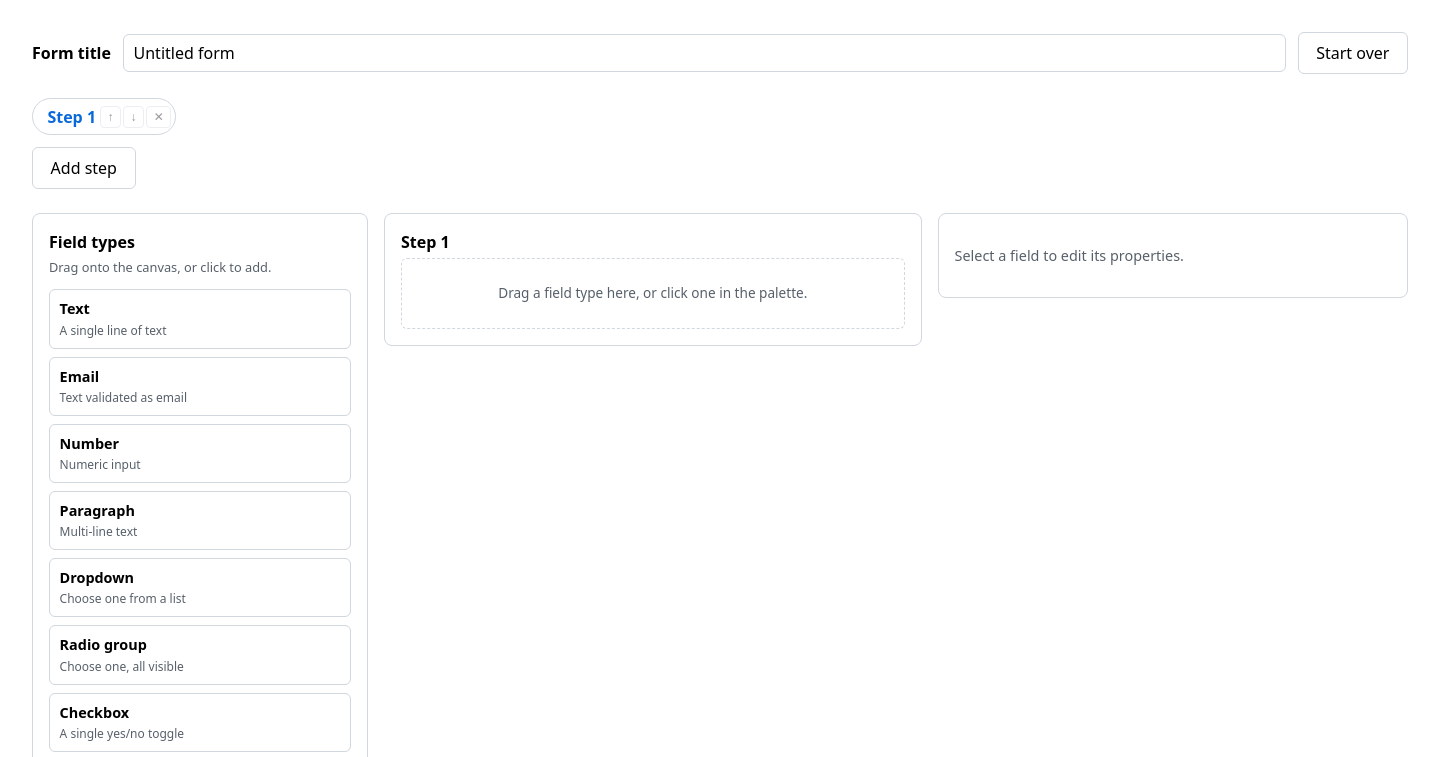
Test: BuilderPage › rejects renaming a field to a name already used elsewhere
Click the button "Text A single line of text": (75, 309) [49, 289, 351, 348]
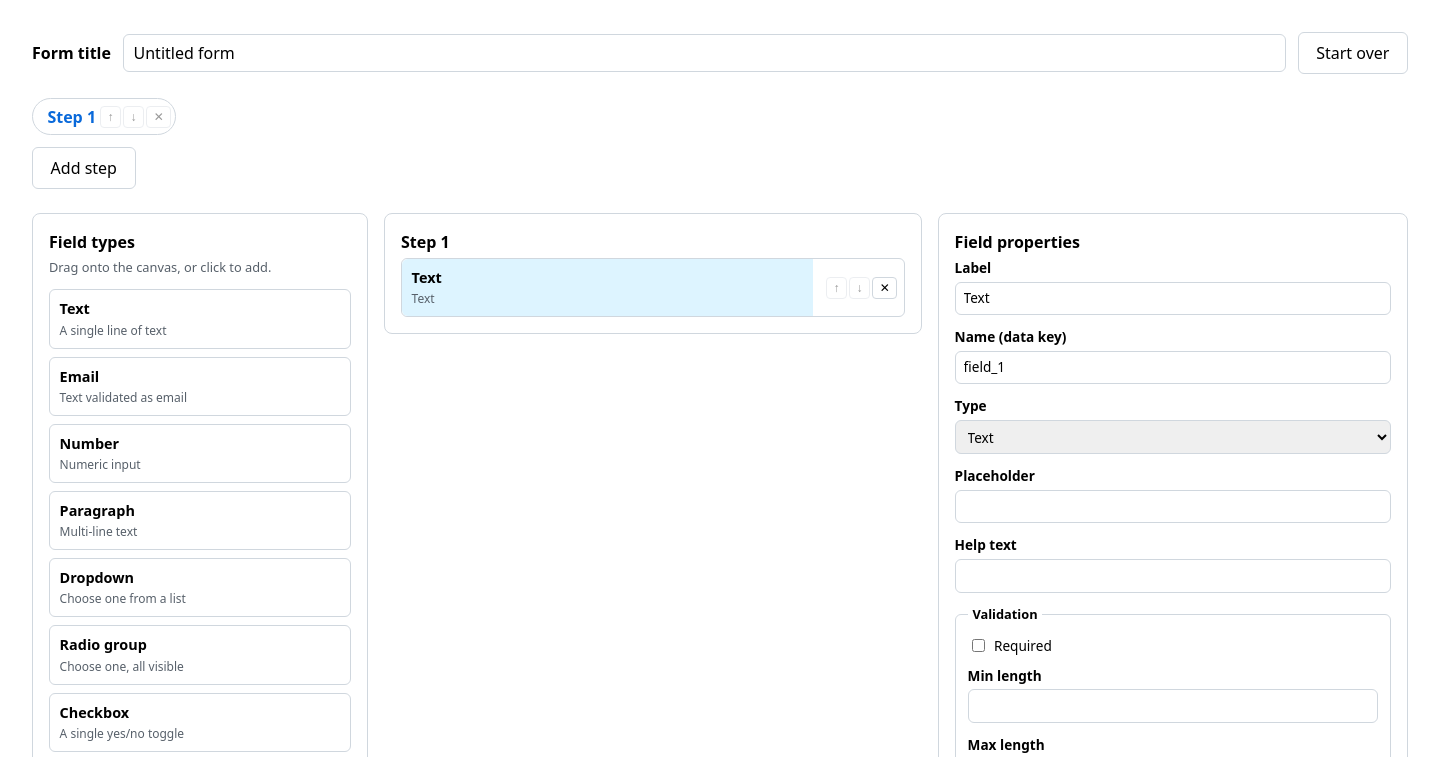
Click the button "Email Text validated as email": (79, 376) [49, 356, 351, 416]
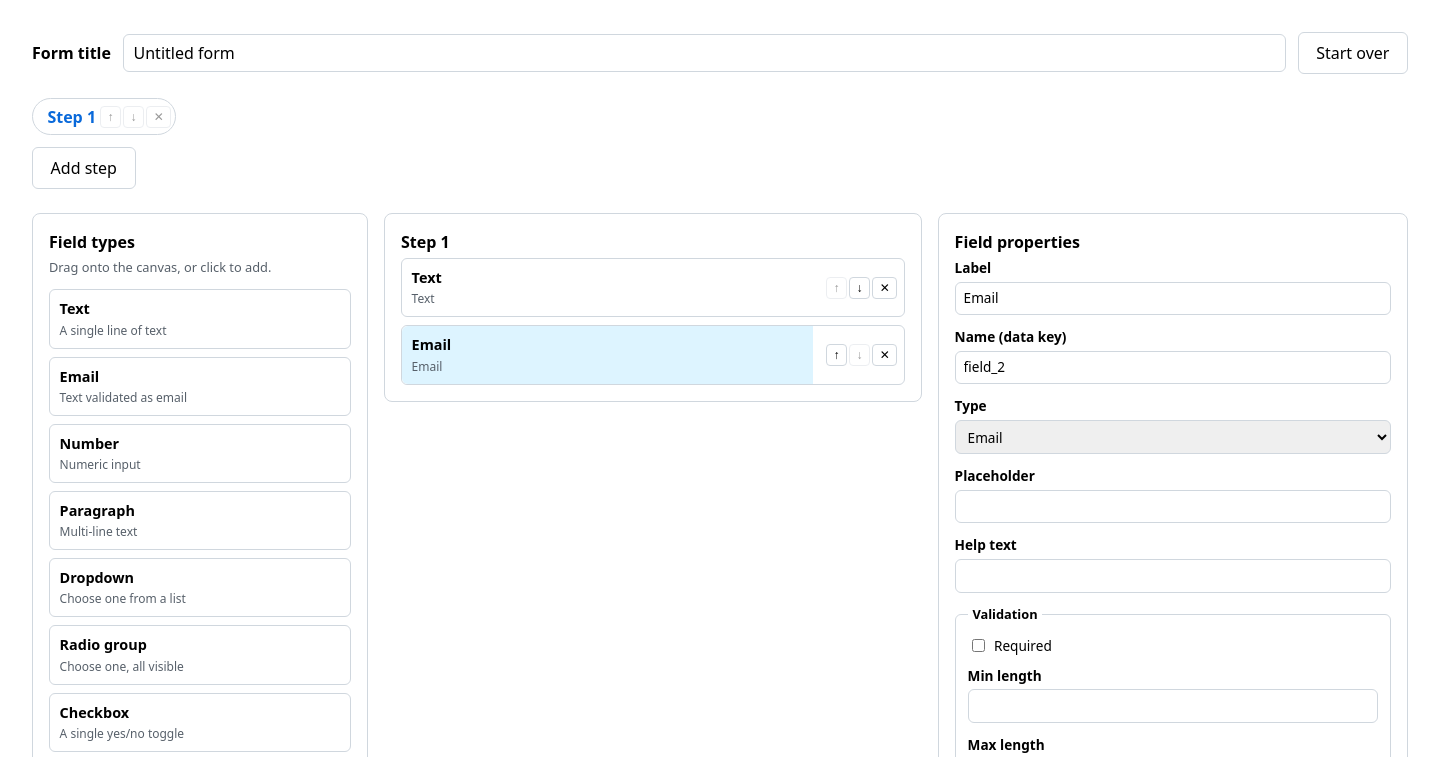
Replace the text in the field labelled "Name (data key)" with "field_1": (1173, 368) [955, 351, 1391, 384]
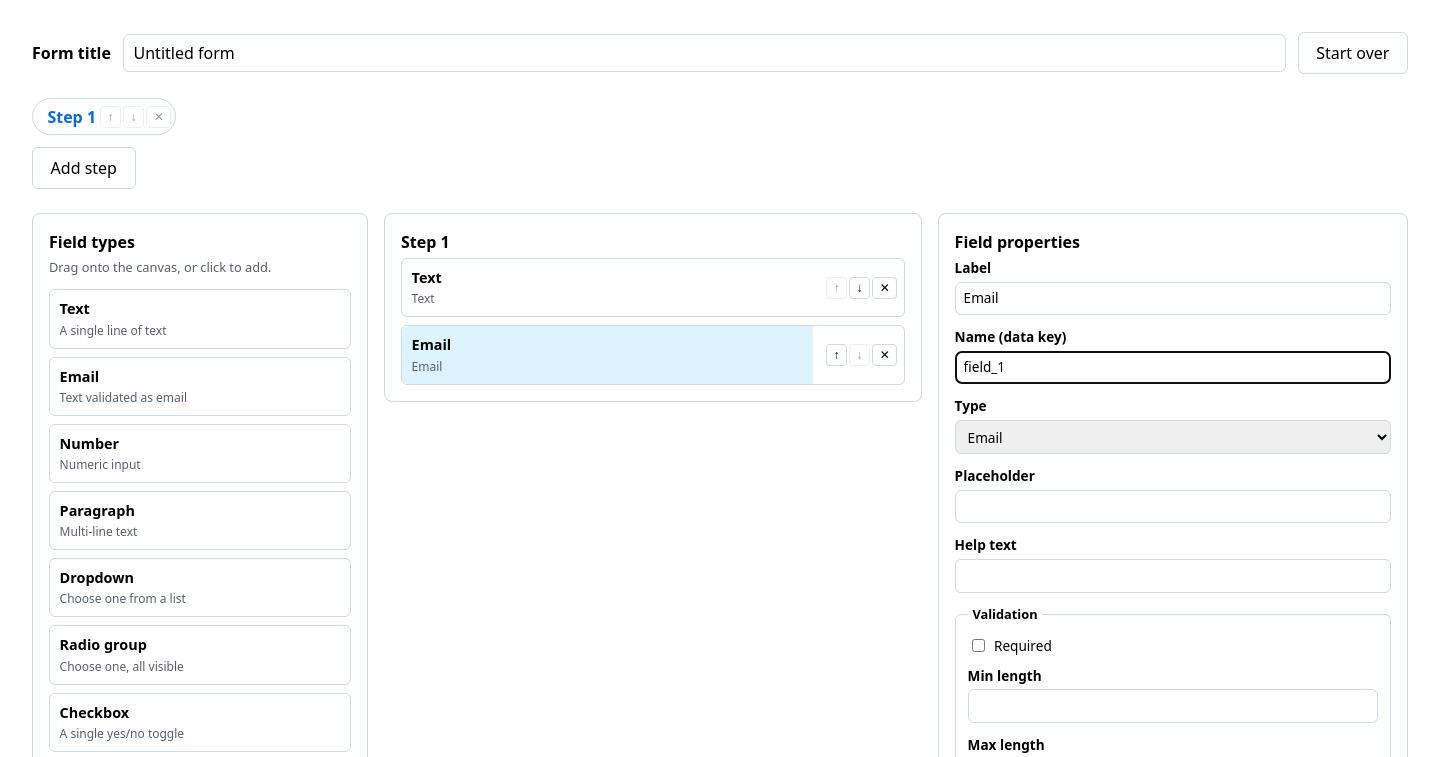
Press Tab
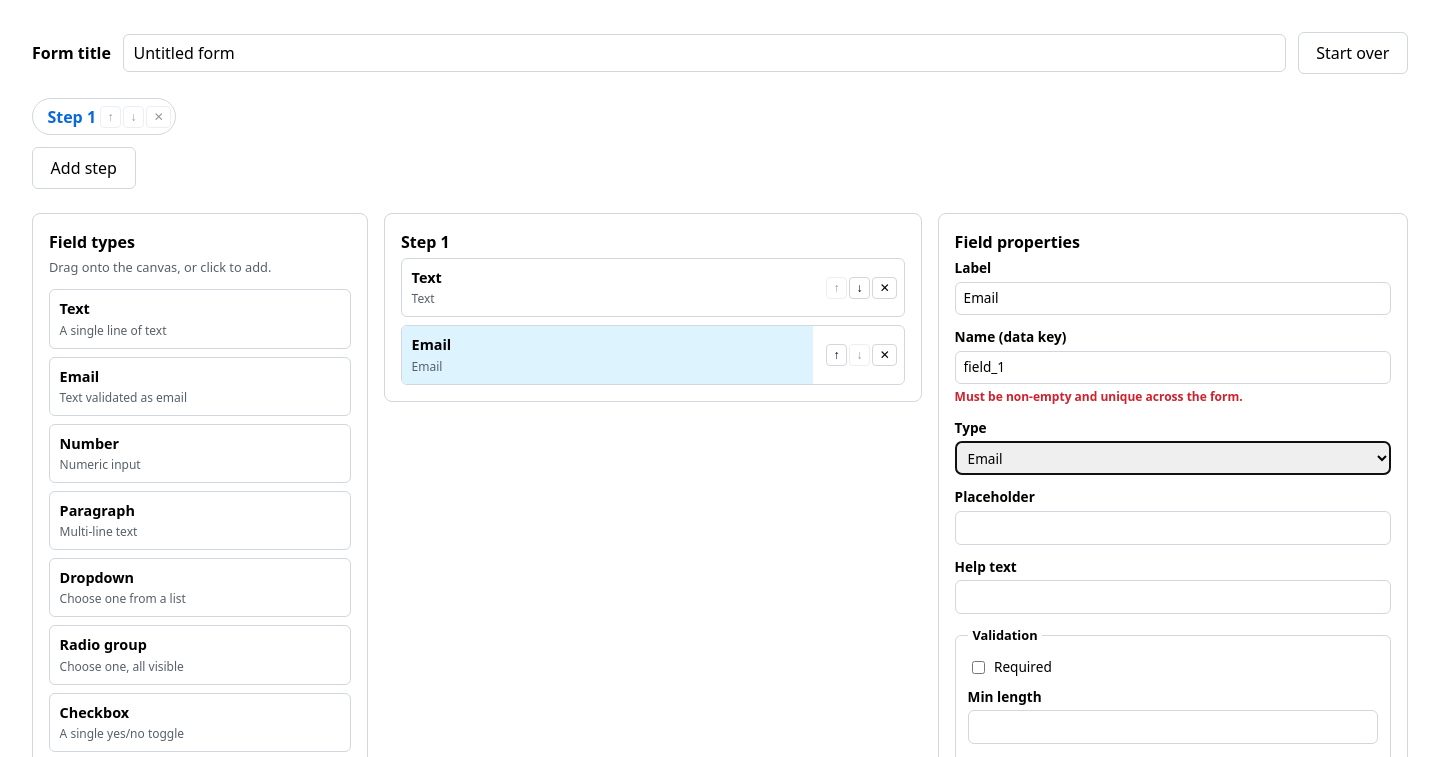
Check: the text "Must be non-empty and unique across the form." is shown, box [955, 388, 1243, 405]
